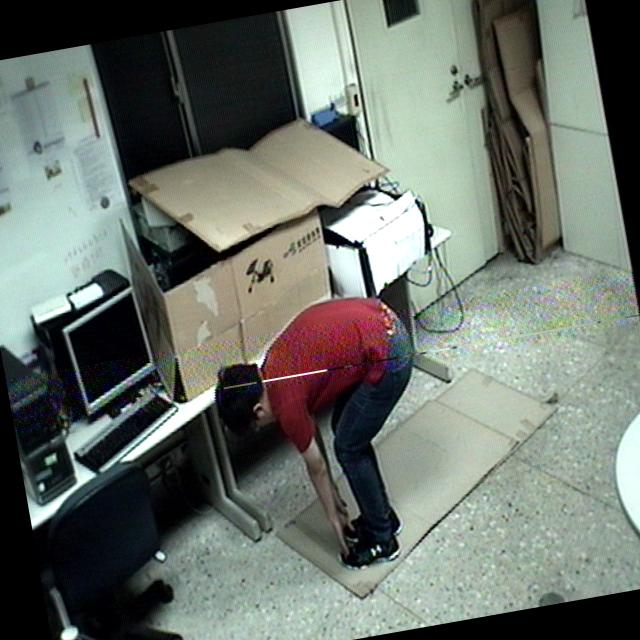bend: (195, 276, 452, 594)
